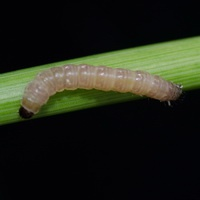insect: (19, 64, 181, 117)
